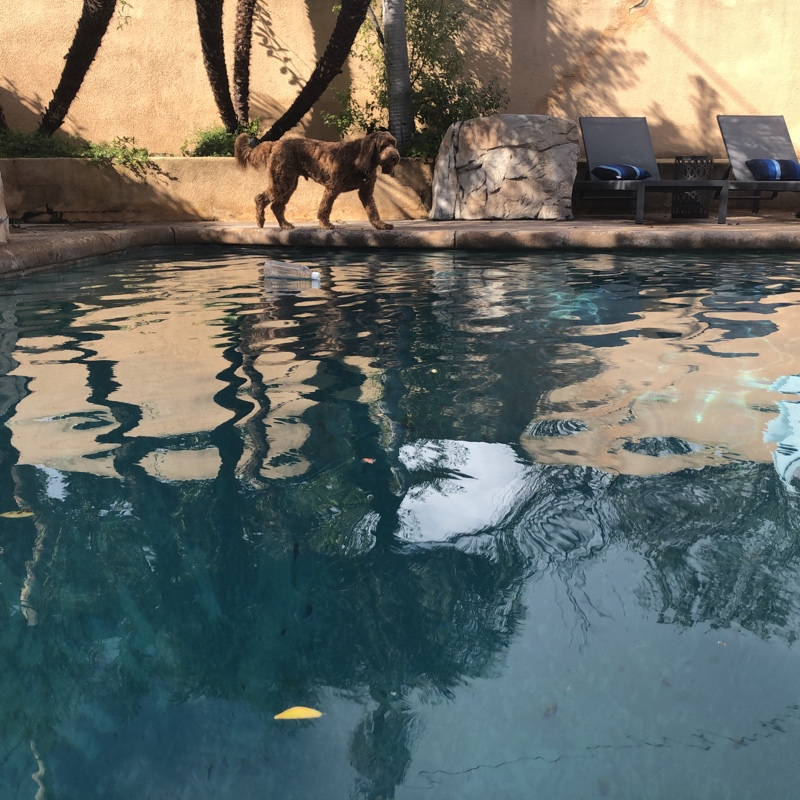Plastic Bottle: (261, 259, 322, 286)
